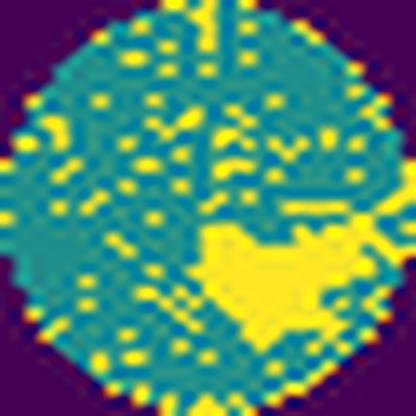Loc: (192, 197, 400, 352)
